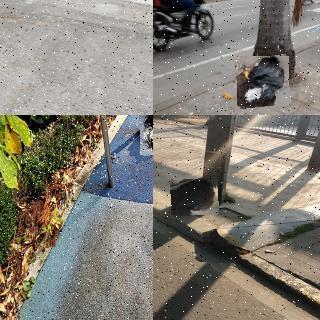Garbage: (236, 55, 290, 108), (170, 178, 219, 216), (138, 115, 153, 155)
